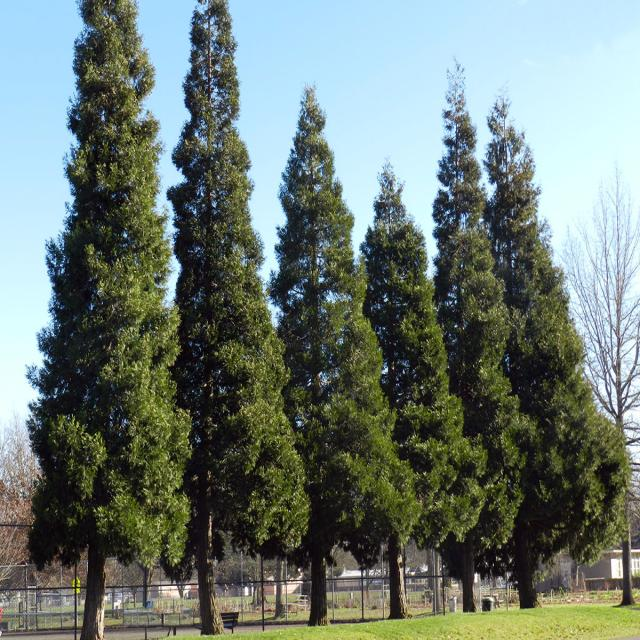Calocedrus decurrens: (35, 2, 186, 640), (151, 1, 299, 631), (250, 82, 392, 627), (324, 160, 481, 619), (460, 95, 586, 611)
